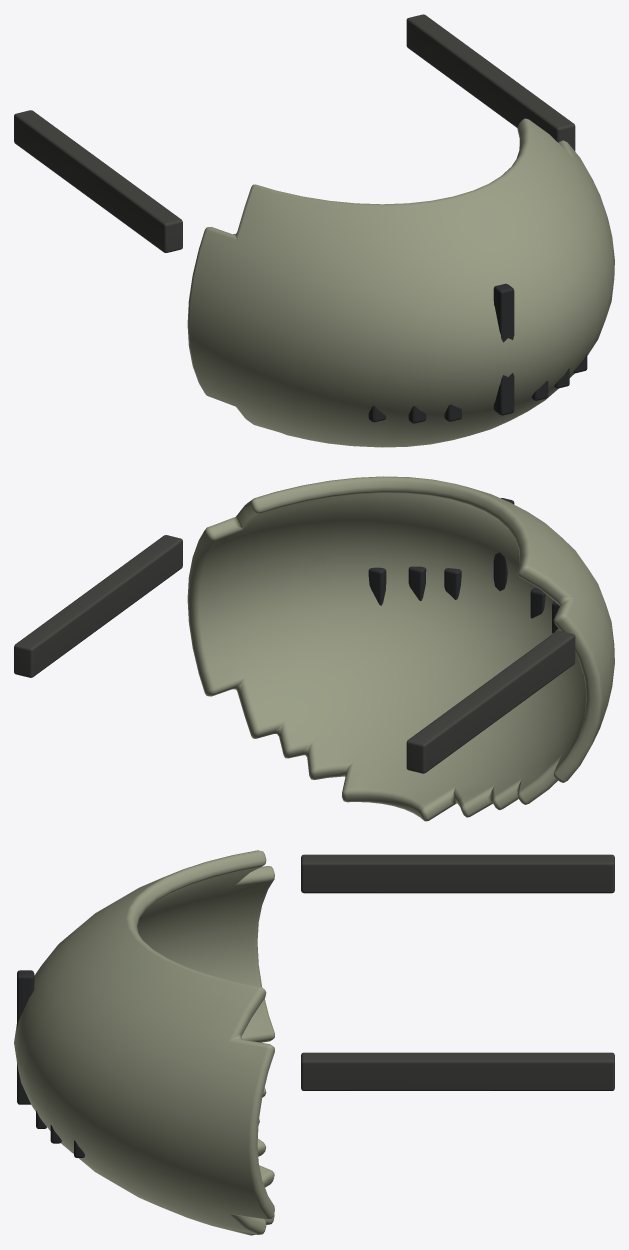
The model's file is mask_half_CT.glb.
The picture shows the model from 3 angles, top to bottom: view 1: azimuth 30°, elevation 25°; view 2: azimuth 150°, elevation 25°; view 3: azimuth 270°, elevation 25°; orthographic projection. The views are drawn at different scales.
Parts seen in each view (by area): view 1: mask@Head; view 2: mask@Head; view 3: mask@Head.
Part boxes in pixels (x1,y1,x2,y2): mask@Head: (14, 14, 614, 447); mask@Head: (14, 476, 614, 821); mask@Head: (14, 850, 614, 1235).
Size of the model in its own units: 0.1727 by 0.1109 by 0.2105.
